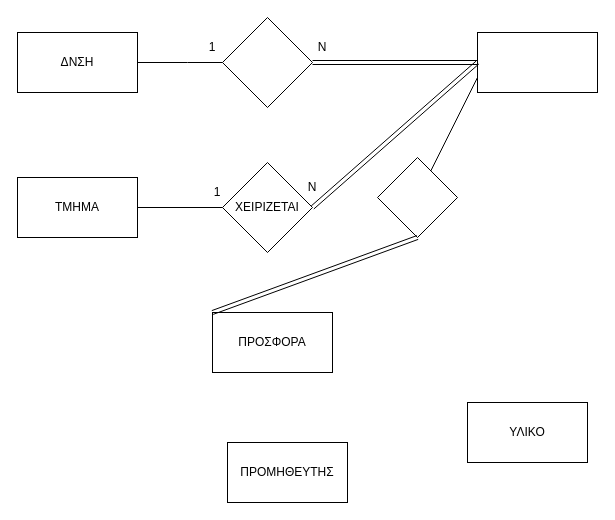
Image size: 615x520. Some labels were removed from this diagram. The shapes that lost their labels are listed below. From the top down, each one's centre as x and y in pixels, then its label:
point 267,62: ΔΙΑΚΗΡΥΤΤΕΙ
point 537,62: ΔΙΑΓΩΝΙΣΜΟΣ
point 417,197: ΑΦΟΡΑ
